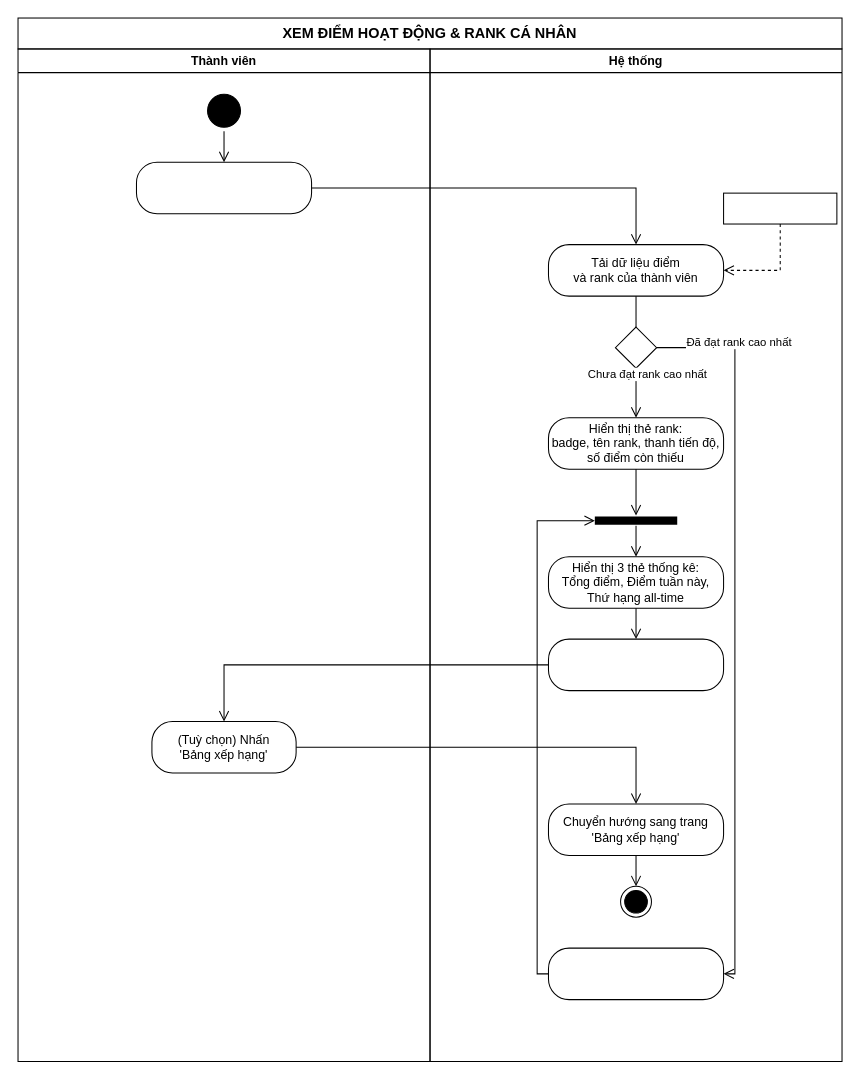
Some shapes in this 860 by 1079 pixel diagram are drawn without their labels. Here are the shapes that lost their labels. From the top down, the centre of each, then its label:
At point (223, 187): "Nhấn 'Điểm của tôi' trên thanh điều hướng".
At point (780, 208): "PointTransaction".
At point (635, 664): "Hiển thị danh sách lịch sử tích điểm gần nhất".
At point (635, 973): "Hiển thị thẻ rank: badge, tên rank, 'Bạn đã đạt rank cao nhất!'".
